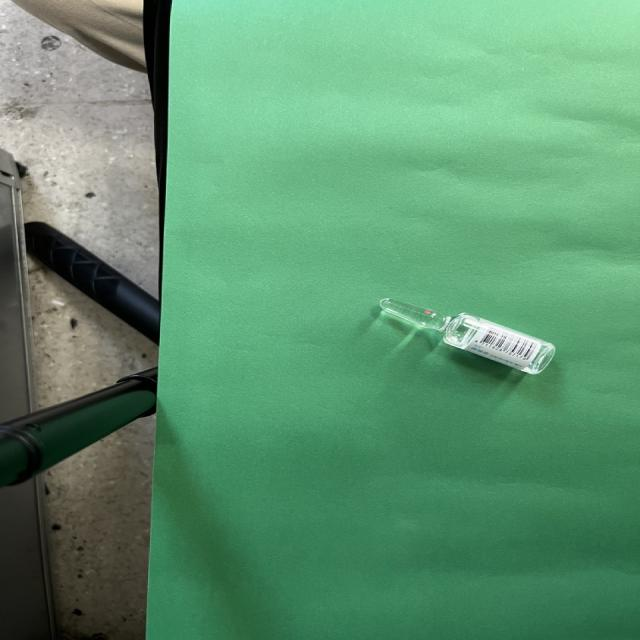Ampoules: (379, 298, 555, 374)
